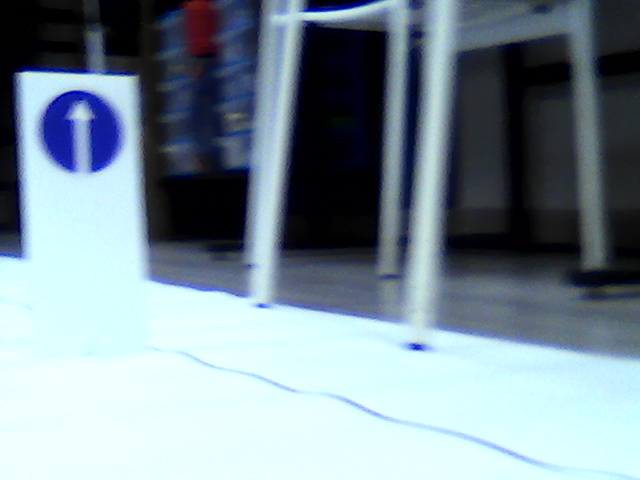forw: (39, 92, 124, 174)
